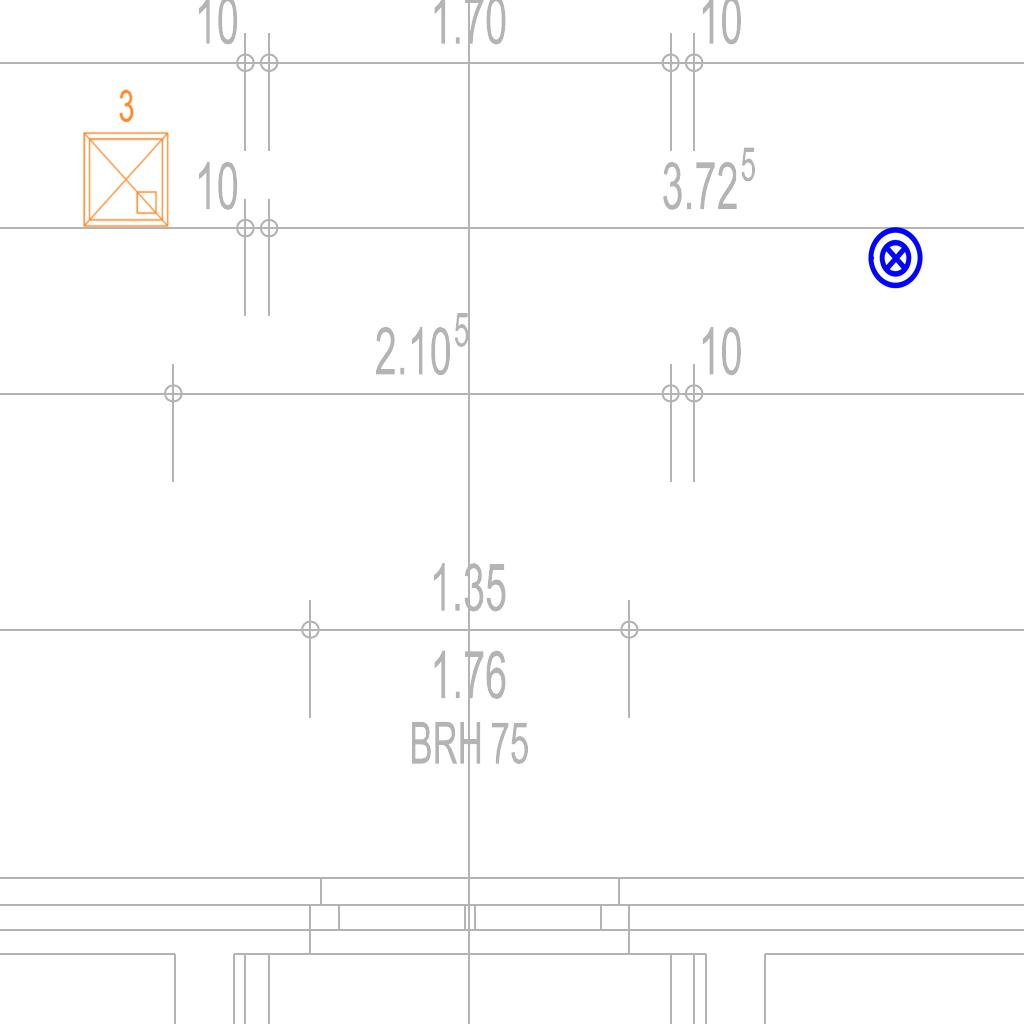Einbaudownlights_LED_Konferenzraeume: (72, 84, 176, 234)
Taster_beleuchtet: (863, 225, 929, 291)
